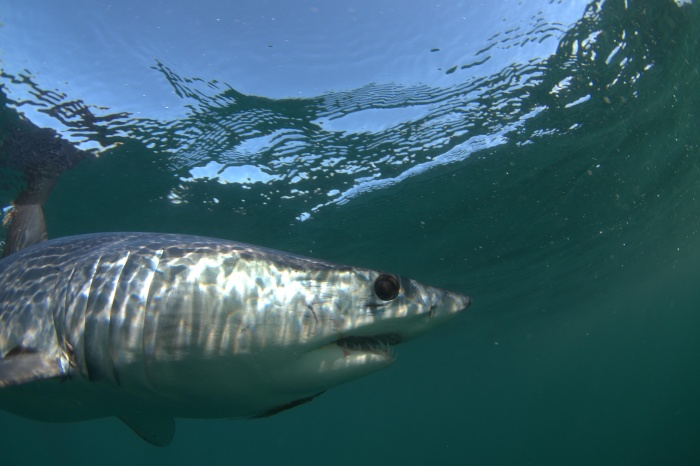Mako: (1, 191, 495, 455)
